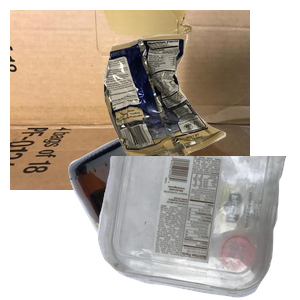cardboard: (10, 10, 250, 190)
glass: (66, 120, 300, 300)
plastic: (95, 156, 300, 300)
trash: (101, 32, 300, 195)
